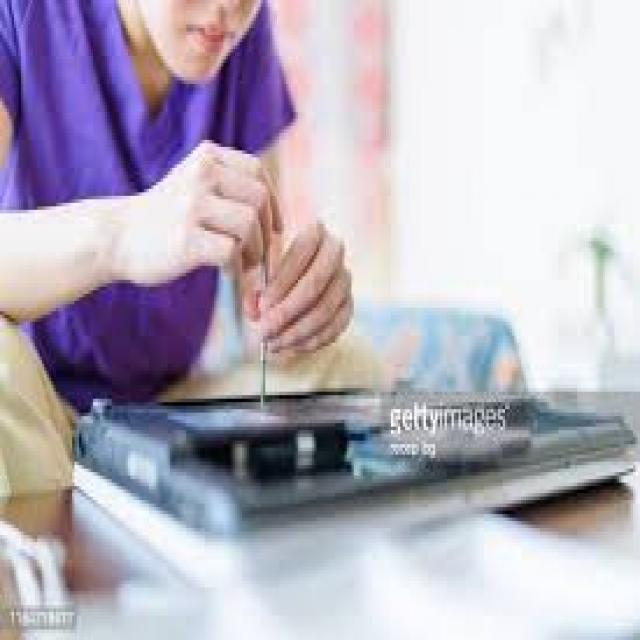screwdriver: (244, 154, 282, 420)
